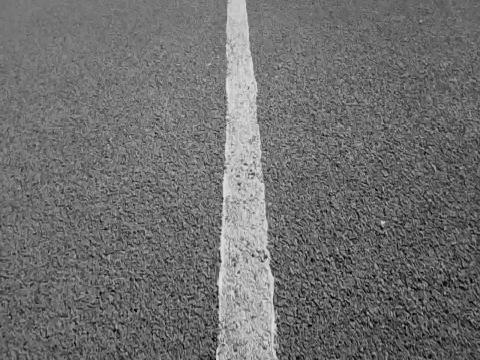Lines: (217, 0, 280, 360)
